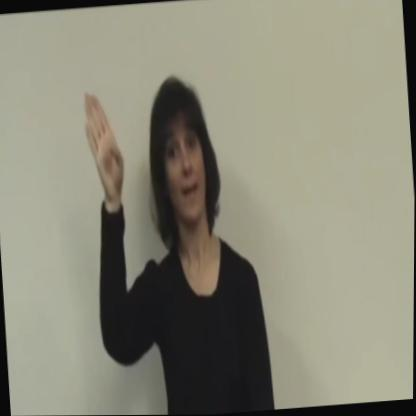Hello: (66, 60, 237, 268)
